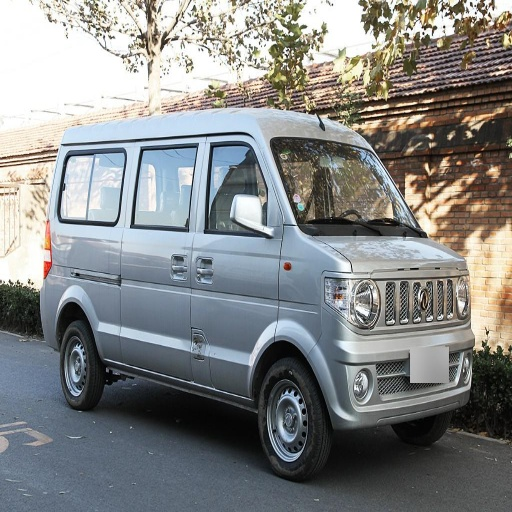front_bumper: (321, 274, 477, 424)
front_glass: (271, 138, 417, 234)
front_left_door: (120, 252, 210, 384)
front_right_door: (194, 137, 281, 294)
front_right_light: (335, 272, 378, 333)
